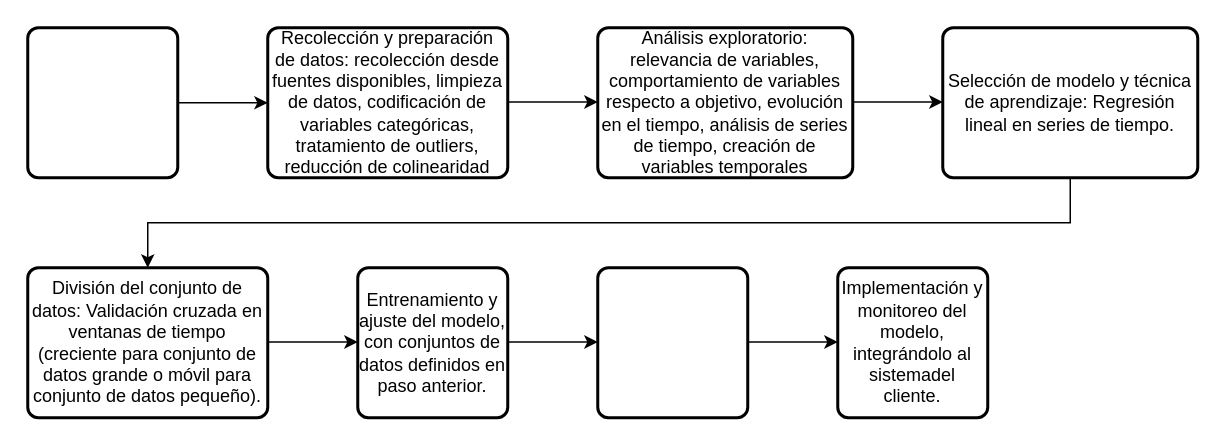
Image size: 1224x444. Some labels were removed from this diagram. The centre of each missing label's shape, as x and y in pixels:
"Definición del problema: objetivo, datos necesarios, métricas de evaluación" belongs at (102,102).
"Evaluación del modelo, según métricas definidas en definición del problema." belongs at (672,342).
